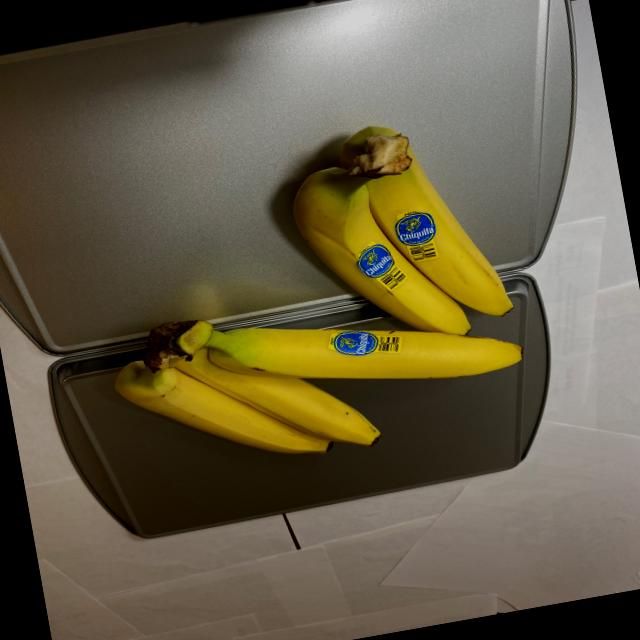banana: (75, 106, 539, 491)
